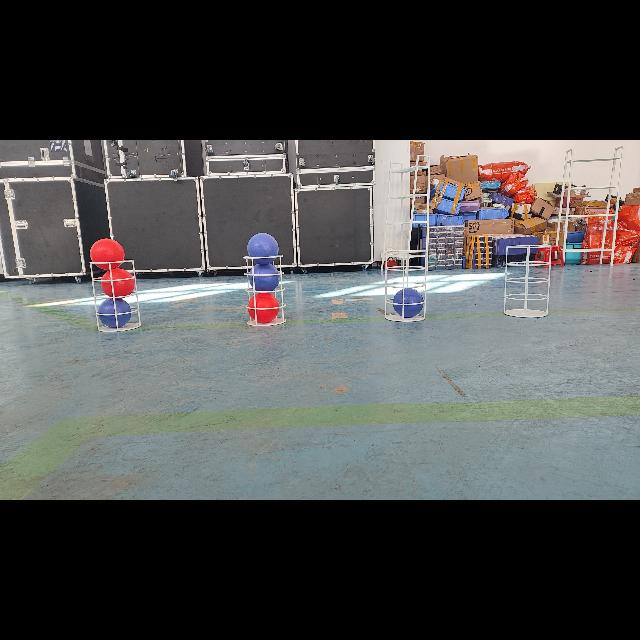B: (96, 298, 132, 328), (247, 233, 279, 265), (393, 288, 427, 318), (248, 262, 280, 292)
R: (248, 292, 284, 322), (91, 240, 125, 270), (102, 268, 134, 298)
S: (86, 257, 146, 335), (498, 242, 554, 320), (381, 247, 435, 323), (241, 256, 291, 328)
